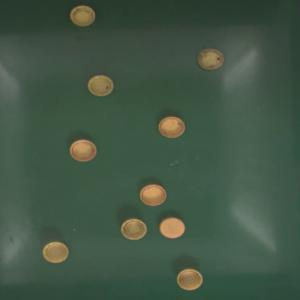others: (176, 268, 204, 290), (158, 116, 186, 138), (42, 241, 69, 263), (140, 184, 167, 206), (87, 74, 114, 96), (70, 5, 96, 27), (70, 140, 96, 162), (121, 218, 147, 240), (159, 218, 186, 239), (198, 49, 225, 70)
